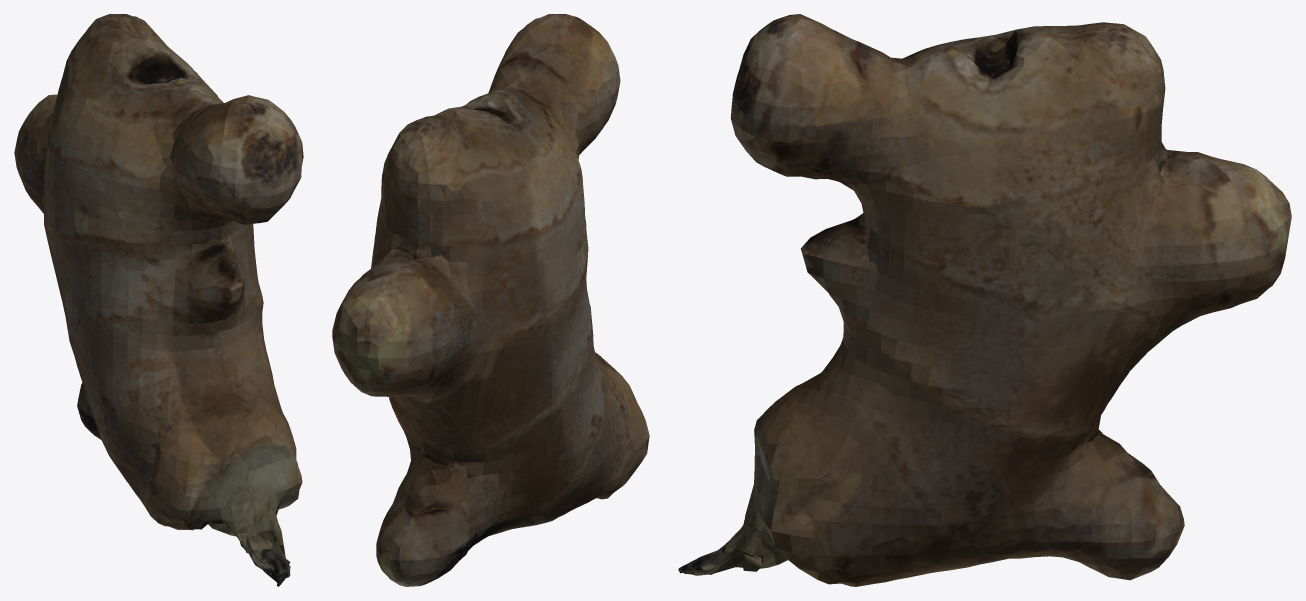
File: jahe.fbx
The picture shows the model from 3 angles, left to right: view 1: azimuth 30°, elevation 25°; view 2: azimuth 150°, elevation 25°; view 3: azimuth 270°, elevation 25°; orthographic projection. The views are drawn at different scales.
Visible parts, largest first — view 1: Ginger_LP; view 2: Ginger_LP; view 3: Ginger_LP.
Part boxes in pixels (box(x1,y1,x2,y2)): Ginger_LP: box(14, 14, 303, 586); Ginger_LP: box(332, 14, 649, 586); Ginger_LP: box(678, 14, 1291, 586).
Bounding box in the file's own units: 1336 × 3291 × 3234.
